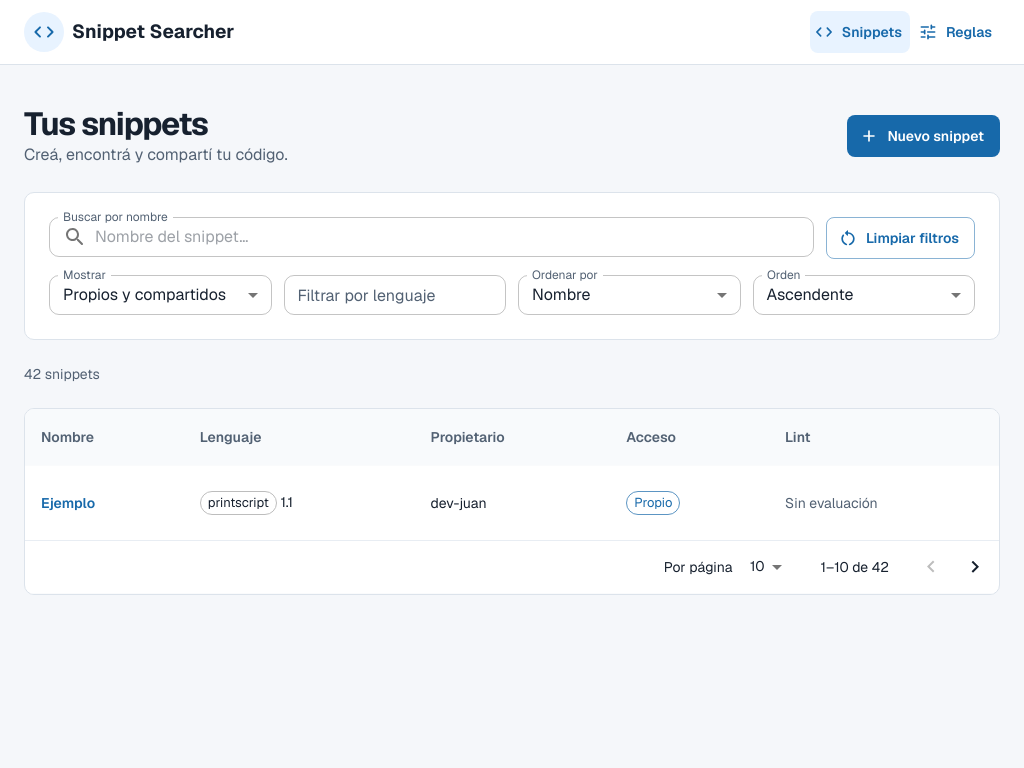
Test case: SNI-35 search, pagination and feedback › resets an advanced page on search and handles zero results without keeping the old total
The width and height of the screenshot is (1024, 768).
Click the button named "Página siguiente" at (975, 567), box [953,545,997,589]
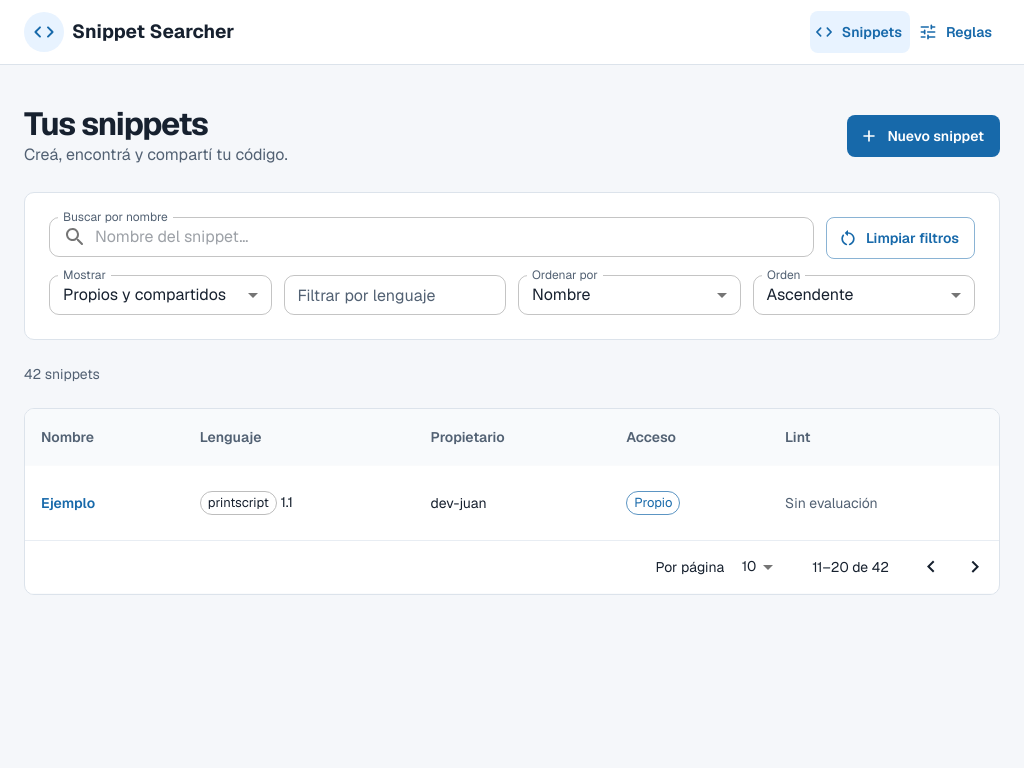
Click the button named "Página siguiente" at (975, 567), box [953,545,997,589]
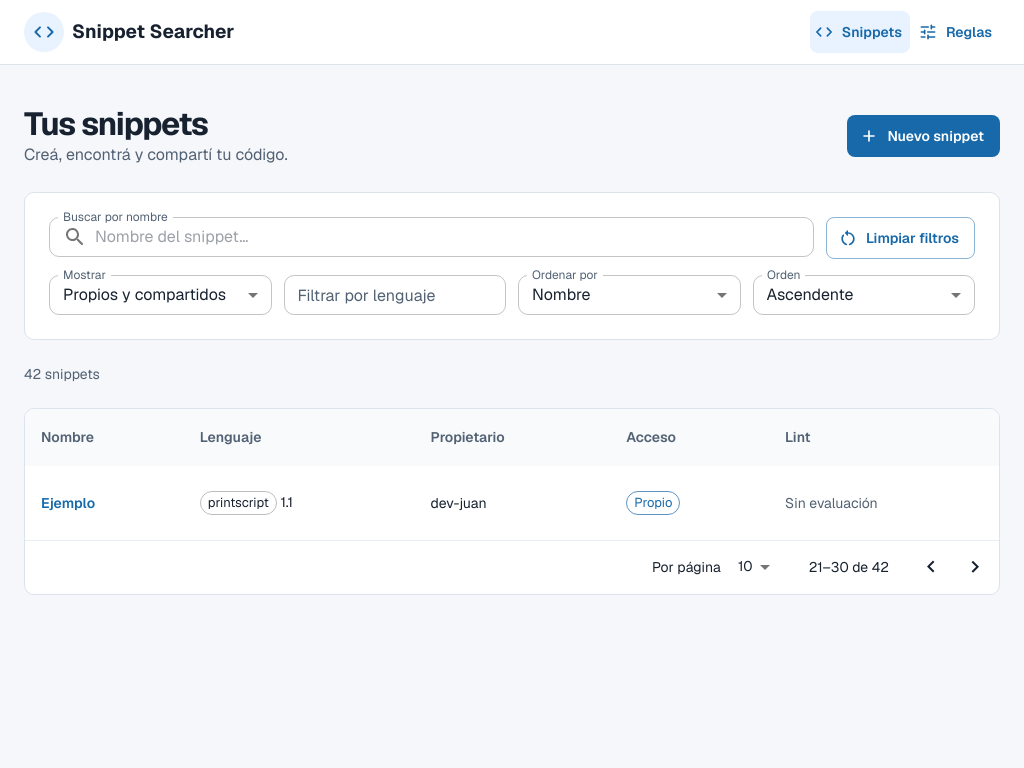
Type "único" into the field with placeholder "Nombre del snippet…" at (455, 237), box [95,217,814,257]
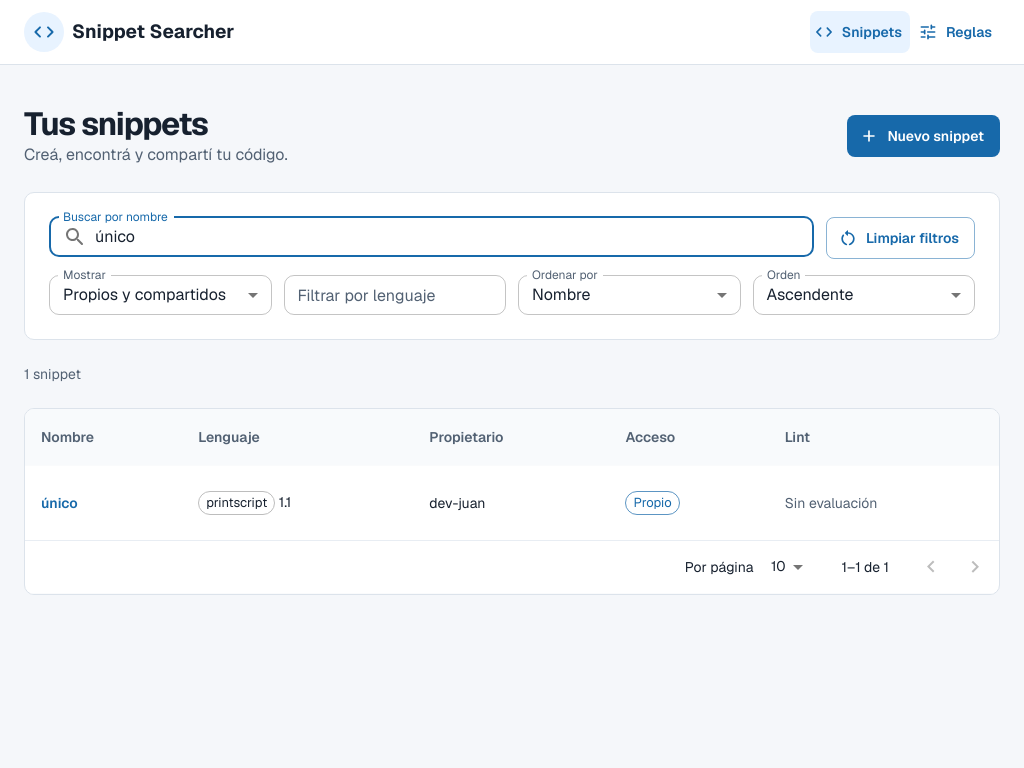
Expected: the text "1 snippet" is shown, [24,364,81,384]
Replace the text in the field with placeholder "Nombre del snippet…" with "inexistente" at (455, 237), box [95,217,814,257]
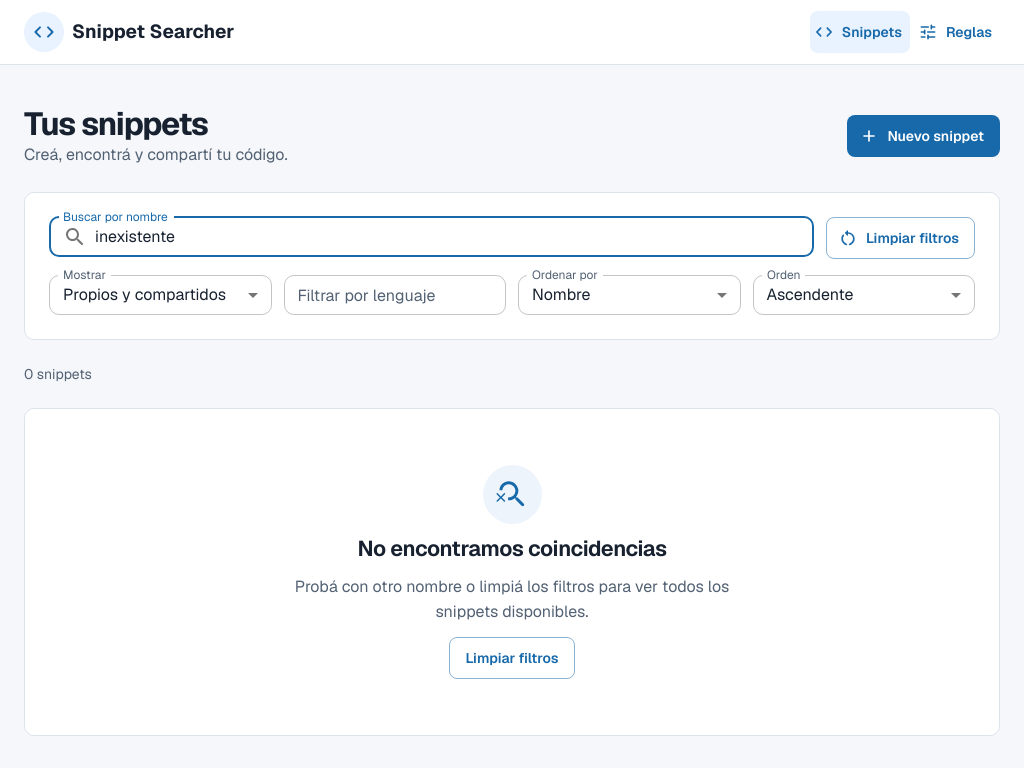
Expected: the text "0 snippets" is shown, [24,364,92,384]
Expected: the heading "No encontramos coincidencias" is shown, [357,536,667,562]
Expected: the row with test id "snippet-row" is gone
Click the button "Limpiar filtros" in the row of "Buscar por nombre" at (901, 238), box [826,217,975,259]
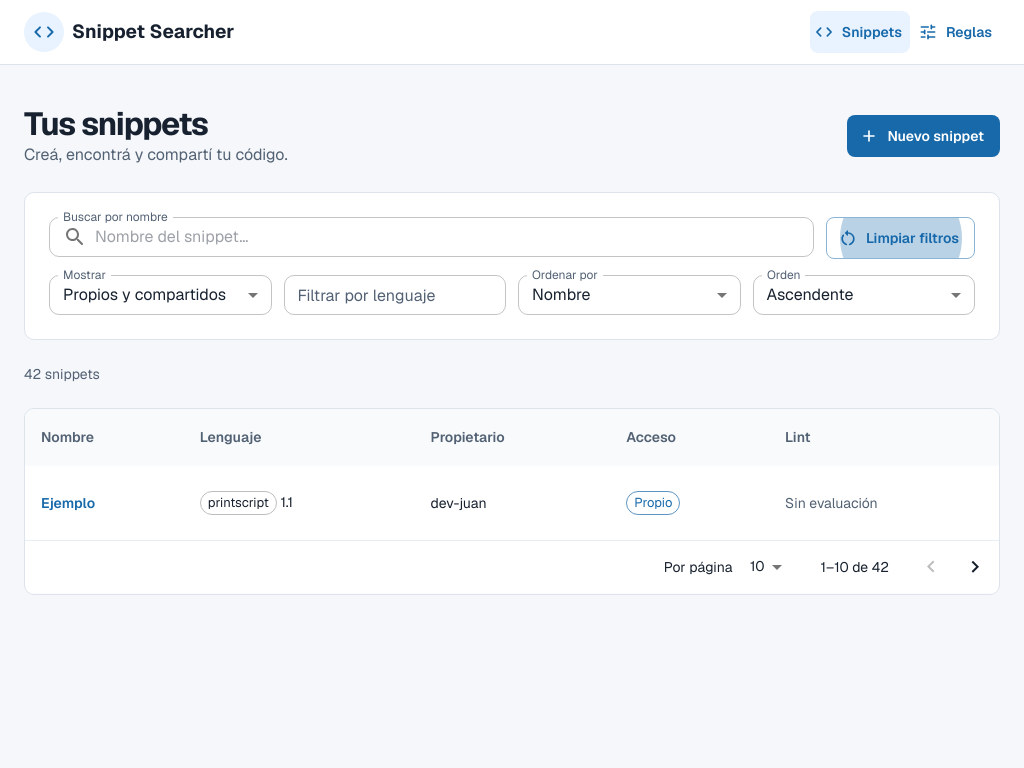
Expected: the text "42 snippets" is shown, [24,364,100,384]
